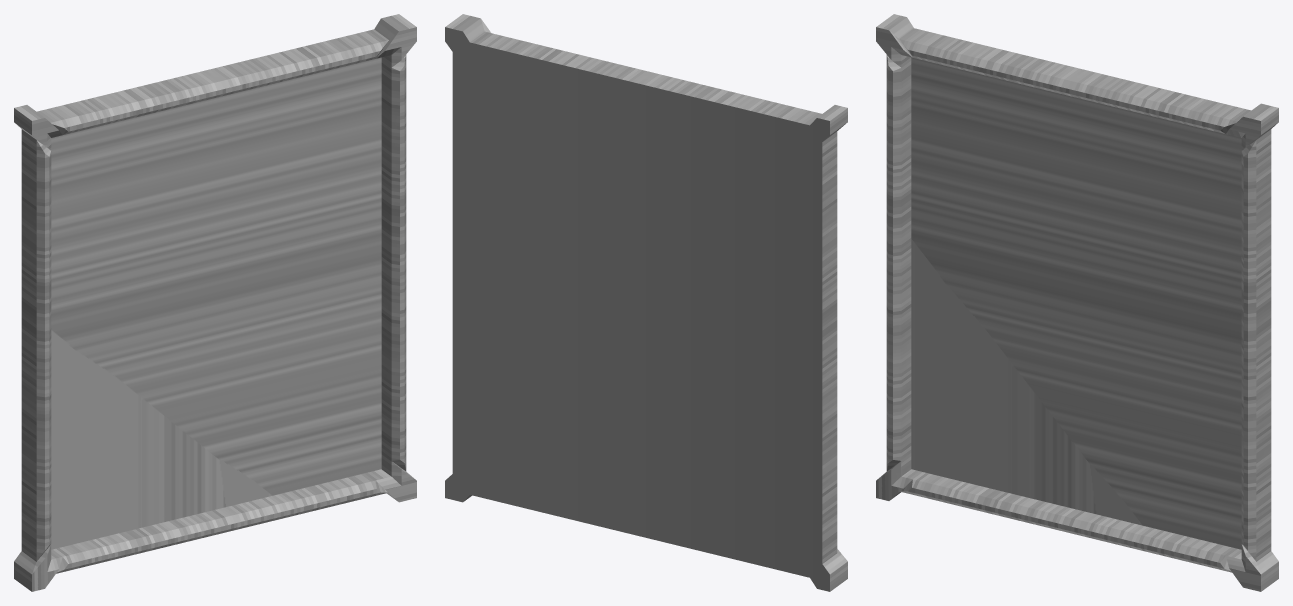
The model's file is Picture_Frame3.fbx.
3 renders of one model, left to right at view 1: azimuth 30°, elevation 25°; view 2: azimuth 150°, elevation 25°; view 3: azimuth 330°, elevation 25°, orthographic.
Visible parts, largest first — view 1: pCube24; view 2: pCube24; view 3: pCube24.
Boxes of the visible parts, left/top/right/bottom form: pCube24: left=14, top=14, right=416, bottom=591; pCube24: left=445, top=14, right=847, bottom=591; pCube24: left=876, top=14, right=1278, bottom=591.
Bounding box in the file's own units: 616 × 720 × 50.49.
Materials: 1 (1 with a texture image).
